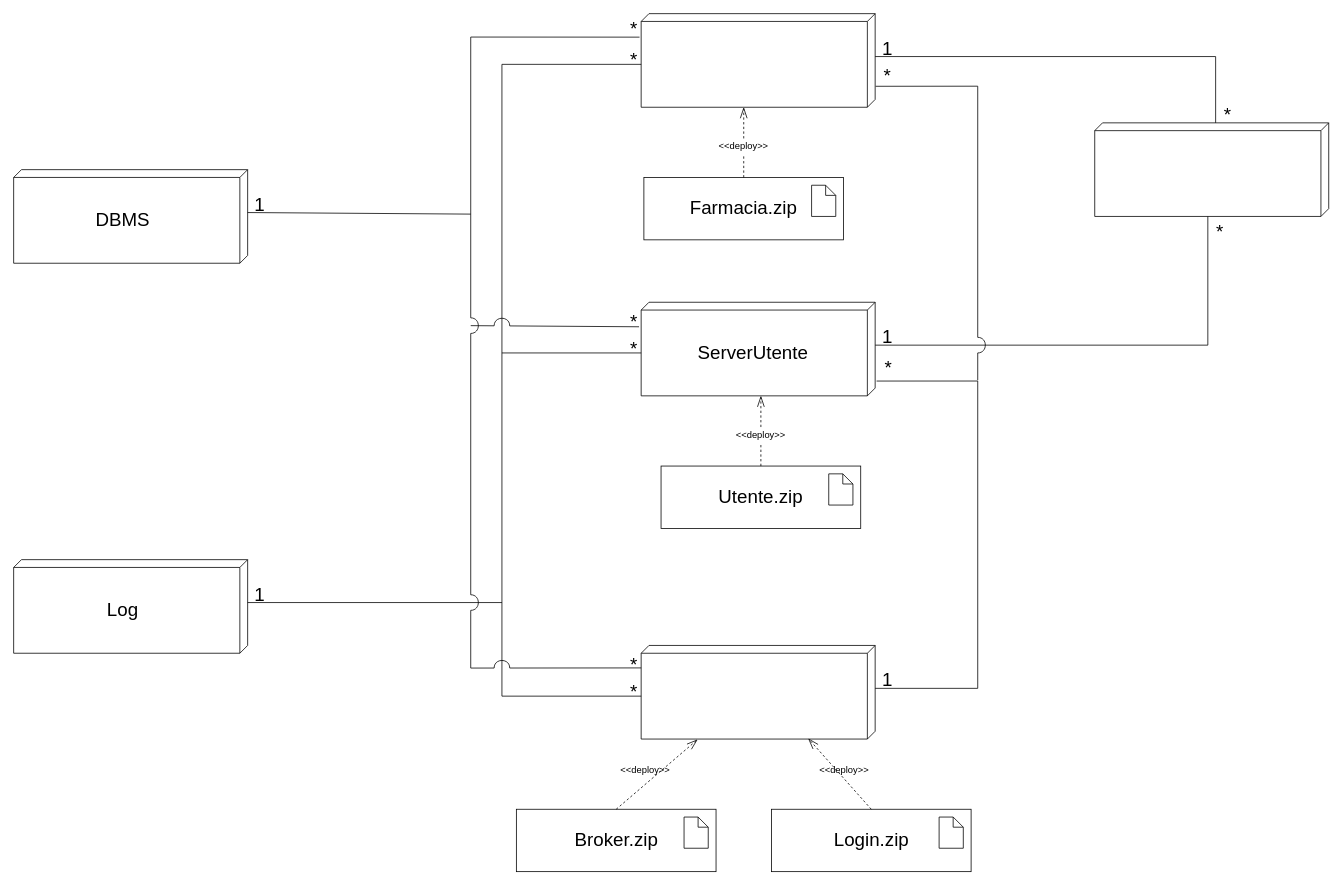
Some shapes in this 1342 by 885 pixel diagram are drawn without their labels. The shapes that lost their labels are listed below. From the top down, each one's box as (x1, y1, x2, y2) in pixels, then its label:
(640, 13, 875, 107): ServerFarmacia
(1094, 122, 1329, 216): WebBrowser
(640, 645, 875, 739): ServerLogin
